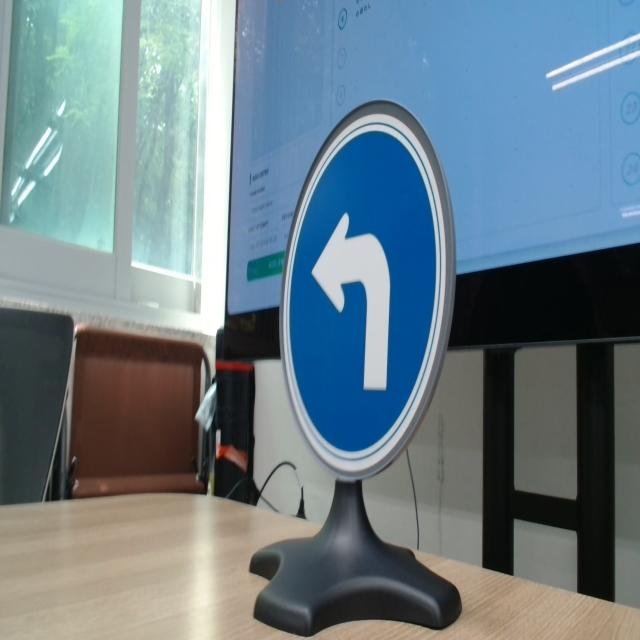left_direction: (272, 74, 470, 498)
